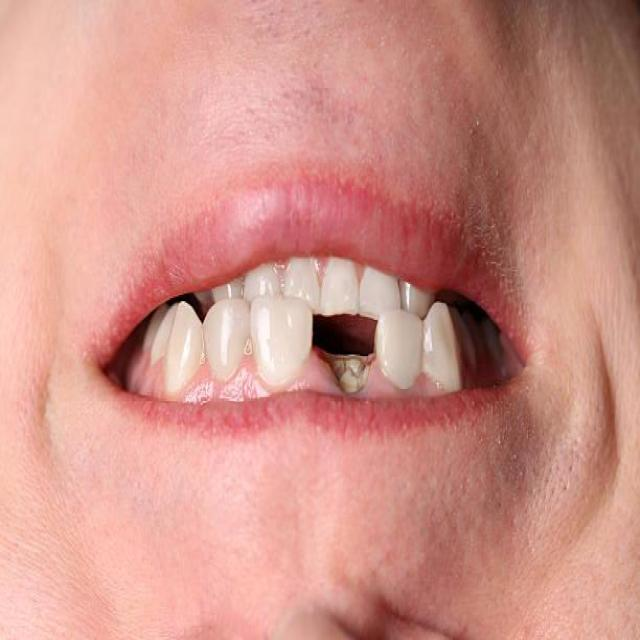caries: (321, 340, 373, 401)
